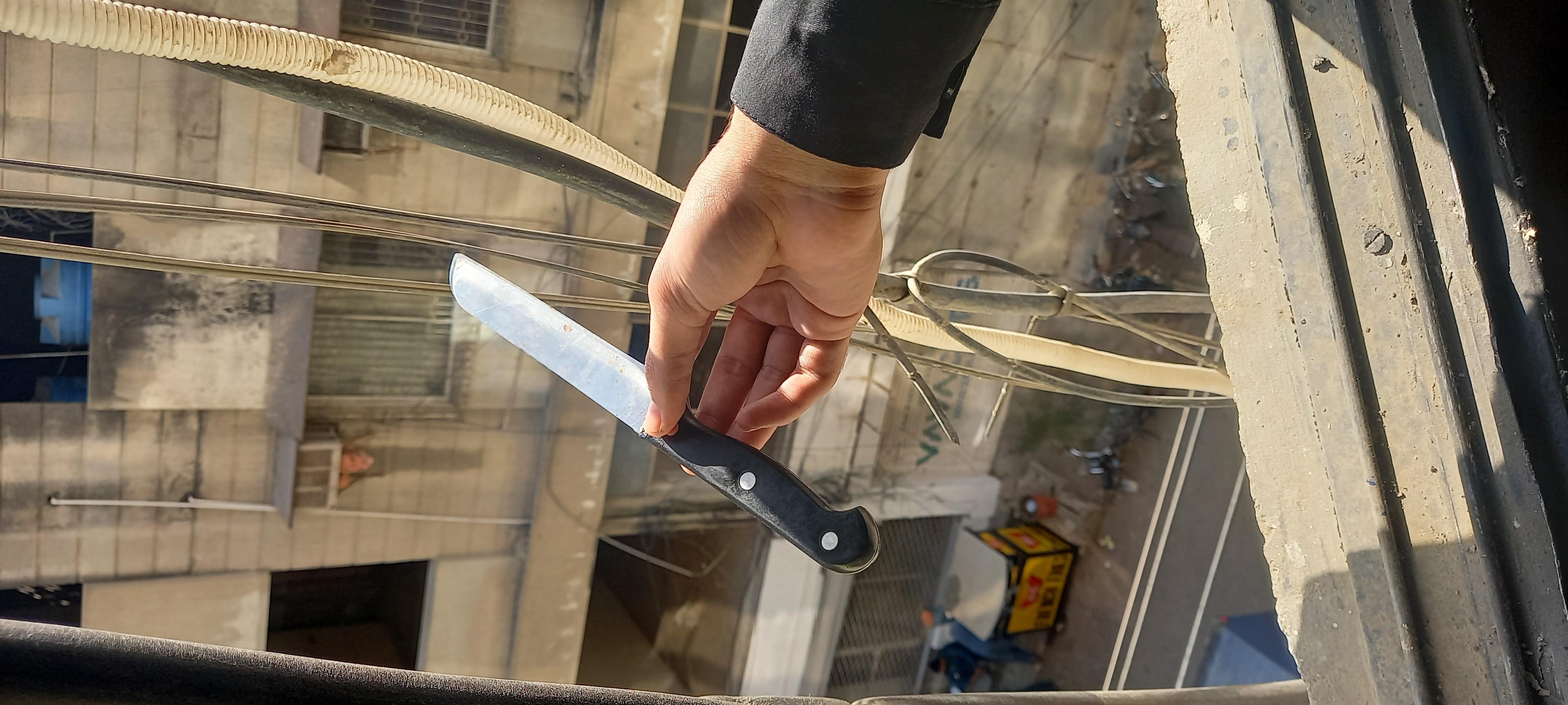knives: (284, 194, 1045, 398)
